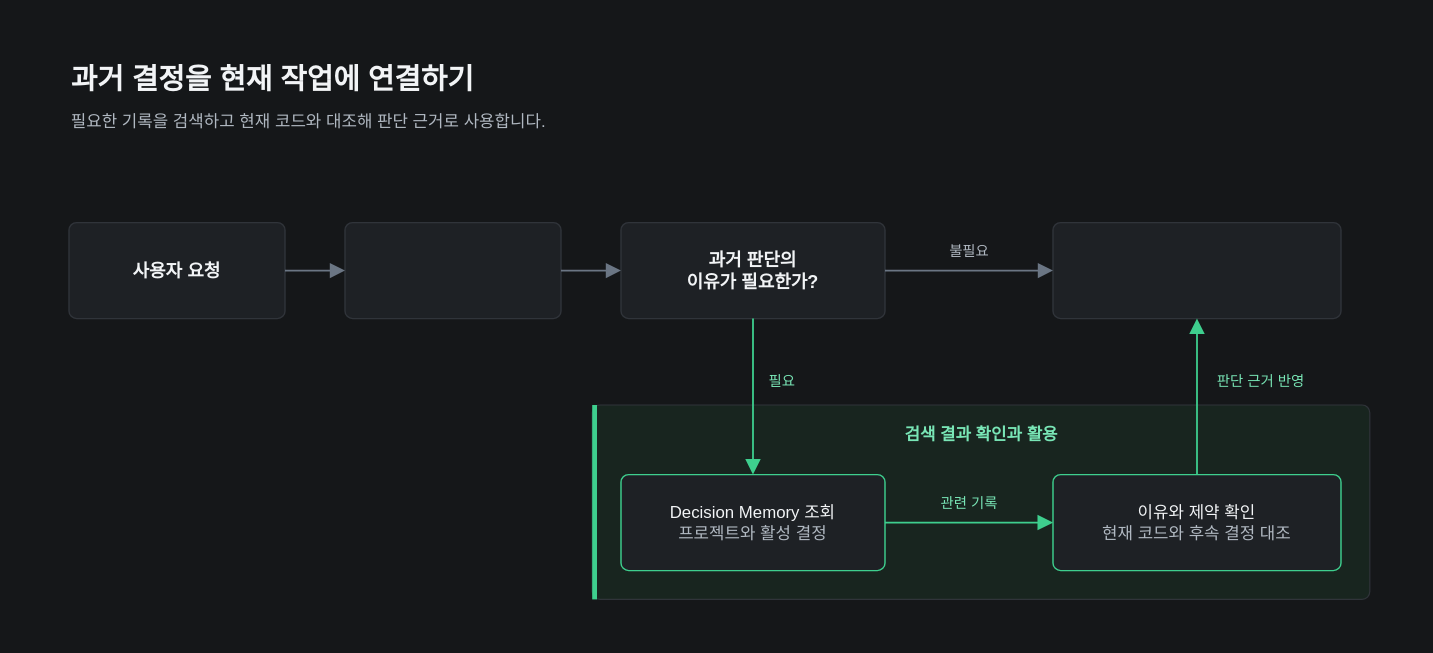
Some shapes in this 1433 by 653 pixel diagram are drawn without their labels. The shapes that lost their labels are listed below. From the top down, each one's centre as x and y in pixels, then its label:
pixel 452 270: 활성 정책과 현재 코드 작업 규칙과 구현 사실 확인
pixel 1196 270: 답변과 변경안 생성 구현 및 검증
